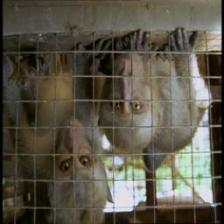monkey: (102, 47, 153, 159), (45, 122, 98, 222)
